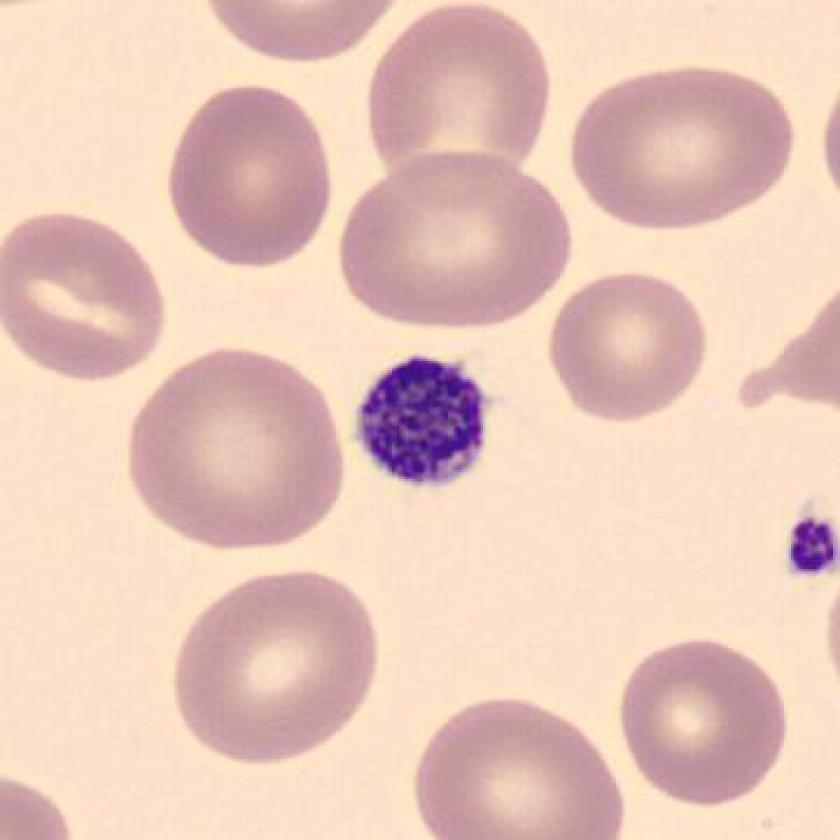platelets: (349, 346, 510, 496), (773, 506, 840, 591)
